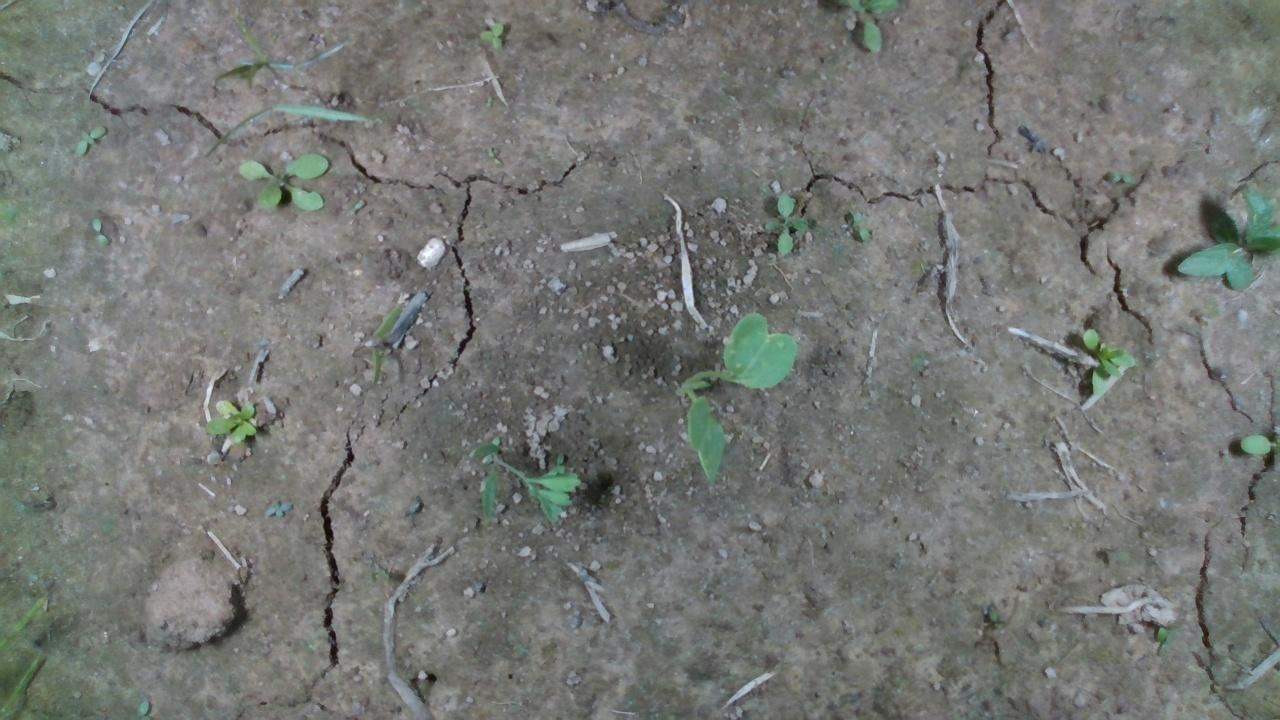weed: (233, 151, 331, 213), (1080, 326, 1133, 397), (759, 188, 810, 256), (198, 393, 257, 446), (70, 123, 105, 157), (476, 20, 505, 54), (848, 205, 871, 242), (262, 495, 292, 520), (89, 215, 109, 250)
